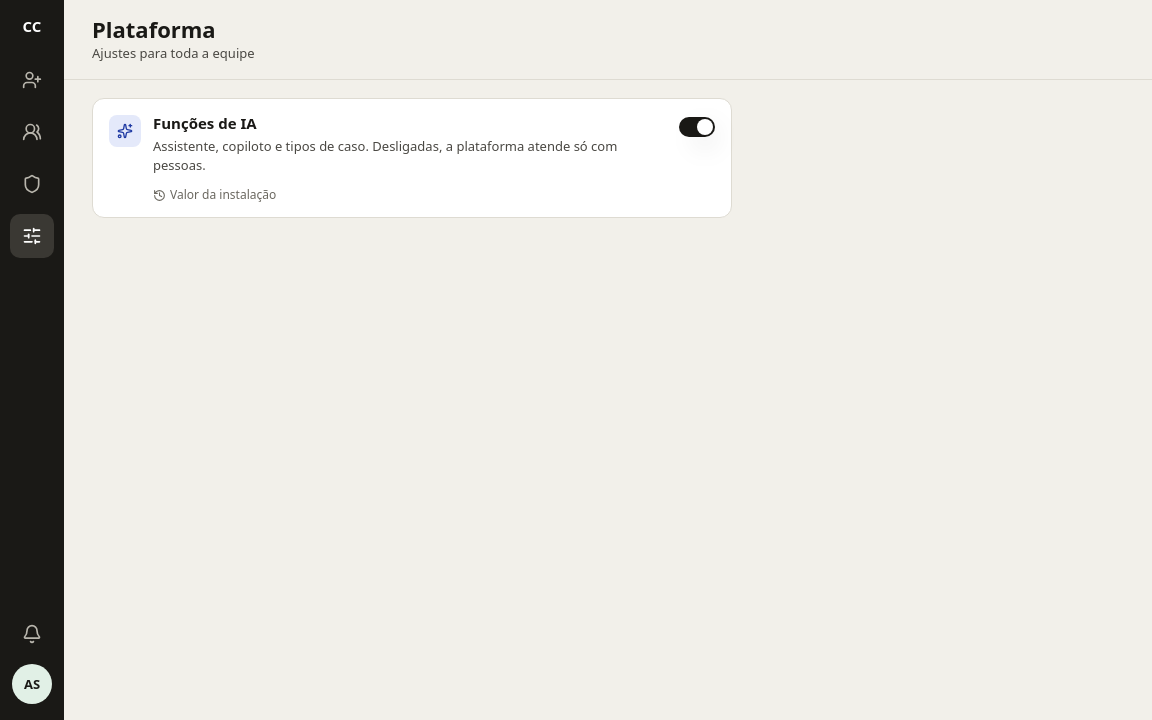
Test: /admin/platform ("Plataforma", slice 18) › speaks Brazilian Portuguese (slice 23)
expect the heading "Plataforma" is shown: met, box x1=92 y1=14 x2=216 y2=44
expect the text "Ajustes para toda a equipe" is shown: met, box x1=92 y1=44 x2=255 y2=63
Click the switch.
click(697, 127)  # box x1=679 y1=117 x2=715 y2=137
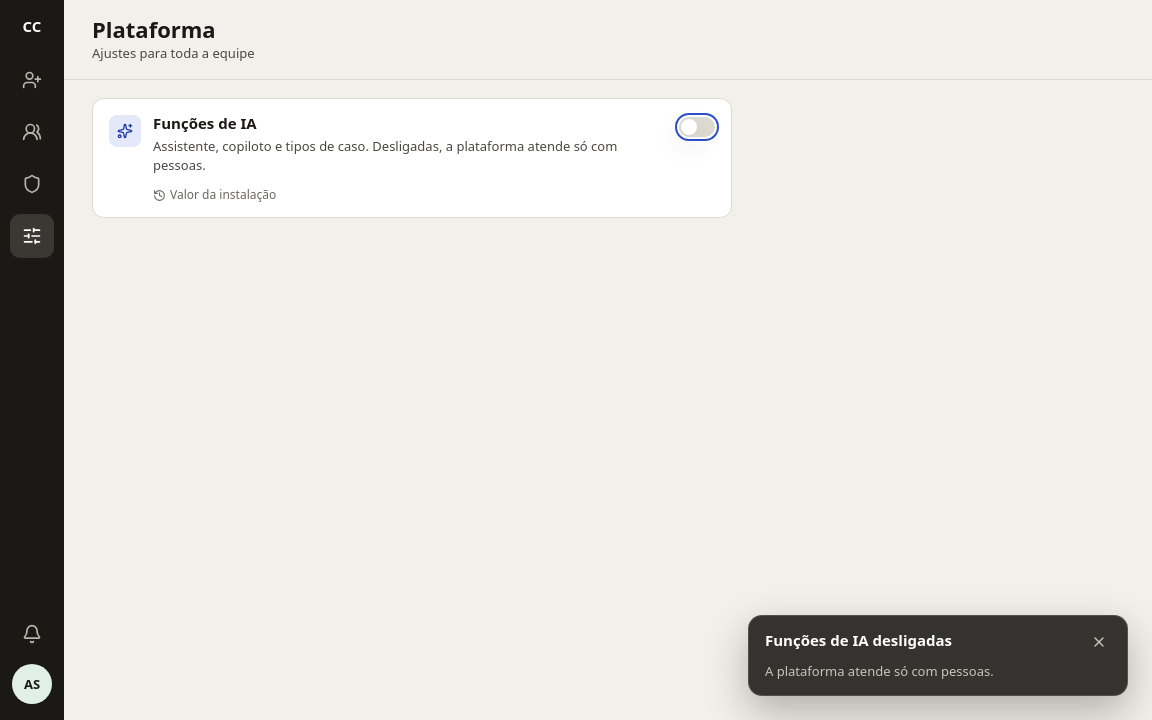
expect the text "Funções de IA desligadas" is shown: met, box x1=765 y1=630 x2=952 y2=650
